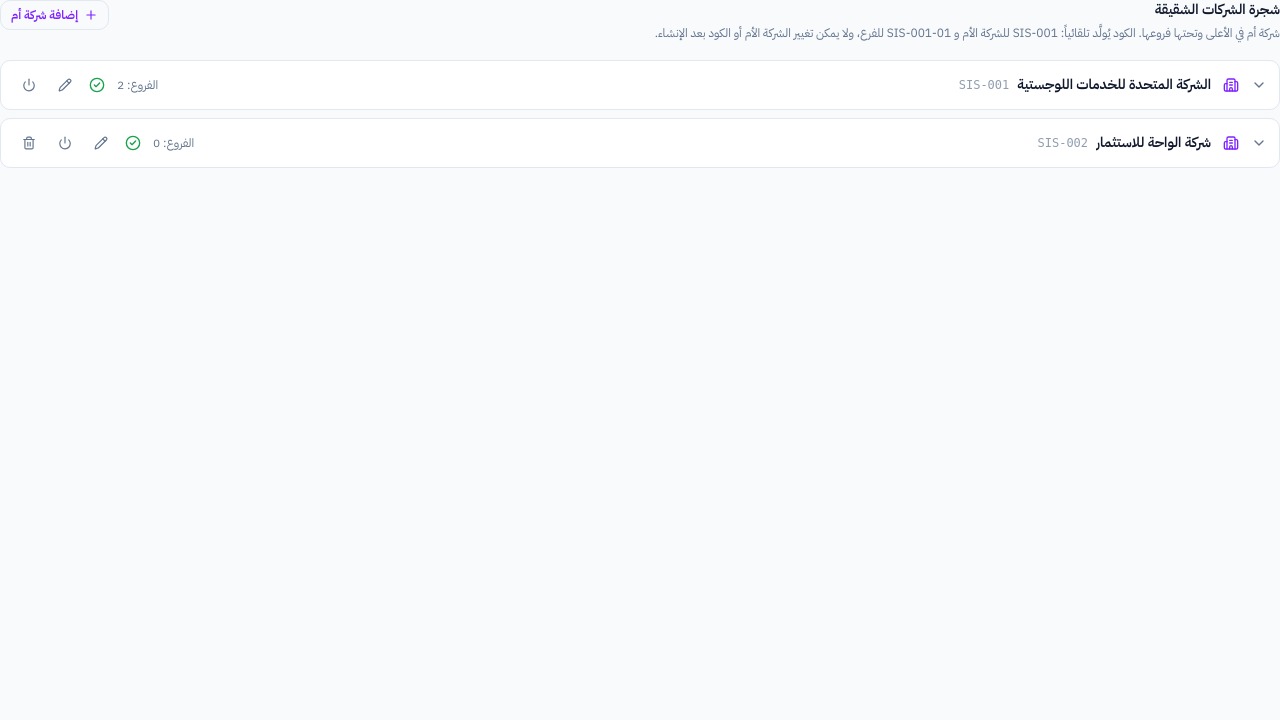
Test: Sister companies — delete › confirms with the name and code, then deletes
Click the button named "حذف شركة الواحة للاستثمار" at coordinates (29, 142), box 13,126 -> 45,158
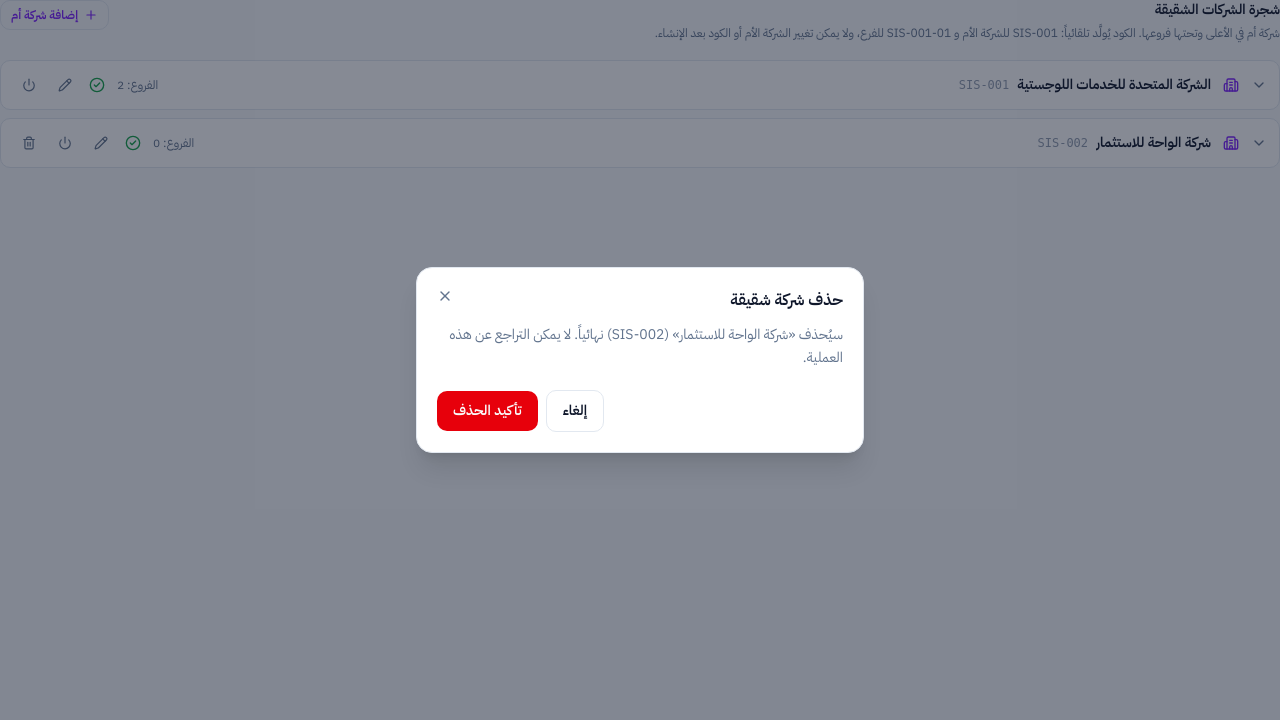
Expected: the dialog shows "شركة الواحة للاستثمار", 449,324 -> 843,368
Expected: the dialog shows "SIS-002", 449,324 -> 843,368
Click the button "تأكيد الحذف" at coordinates (487, 411), box 437,391 -> 538,431
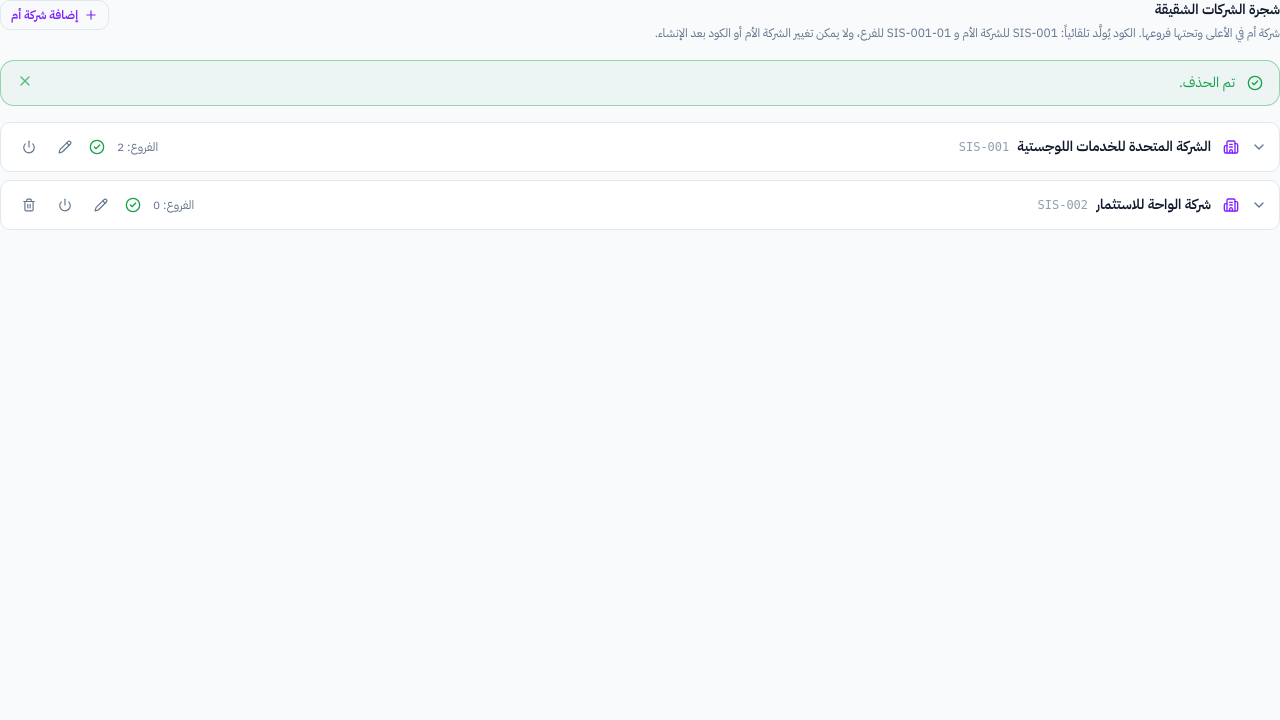
Expected: the dialog is gone
Expected: the message reads "تم الحذف.", 1179,72 -> 1235,92
